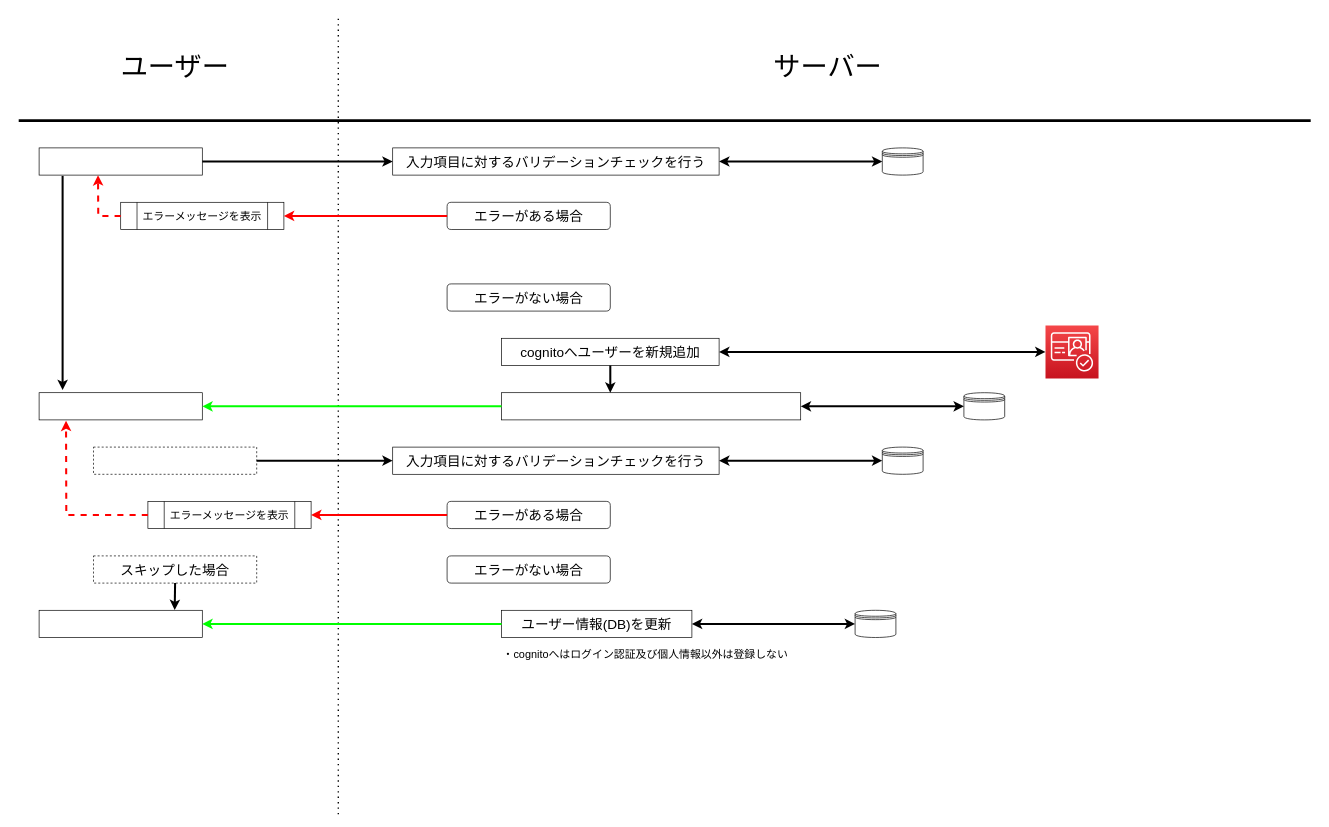
Some shapes in this 1329 by 827 pixel diagram are drawn without their labels. Each missing label, with the centre of its shape:
cognitoに登録したデータの一部をDBに登録: the point at 651,406
トップ画面: the point at 120,624
プロフィール編集画面: the point at 120,406
ユーザー新規作成画面: the point at 120,161
登録ボタンを押下: the point at 175,460
